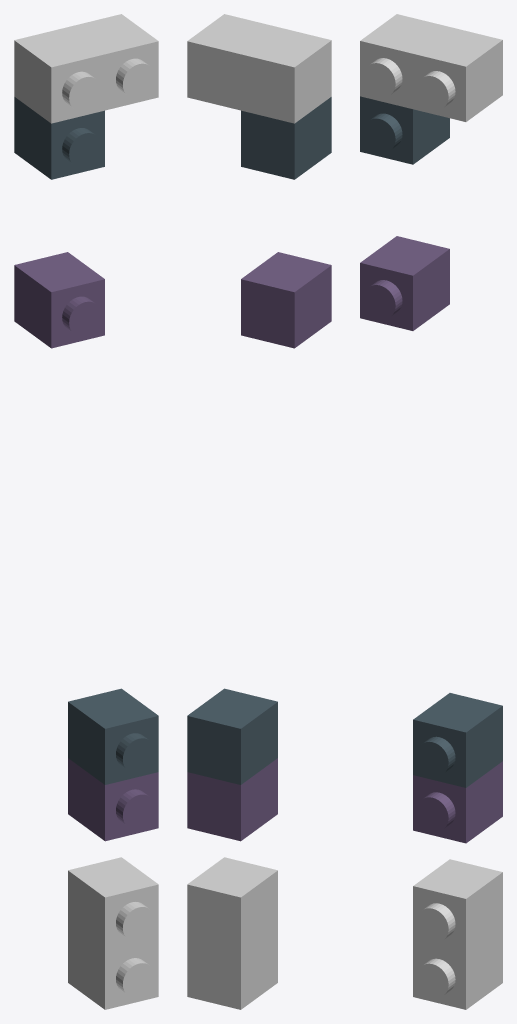
Rendered from current.glb.
3 renders of one model, left to right at view 1: azimuth 30°, elevation 25°; view 2: azimuth 150°, elevation 25°; view 3: azimuth 330°, elevation 25°, orthographic.
Parts seen in each view (by area): view 1: world; view 2: world; view 3: world.
Boxes of the visible parts, x1,y1,x2,y2 form: world: (14, 14, 158, 1009); world: (187, 14, 331, 1009); world: (360, 14, 502, 1009).
Size of the model in its own units: 16 by 136 by 11.4.
